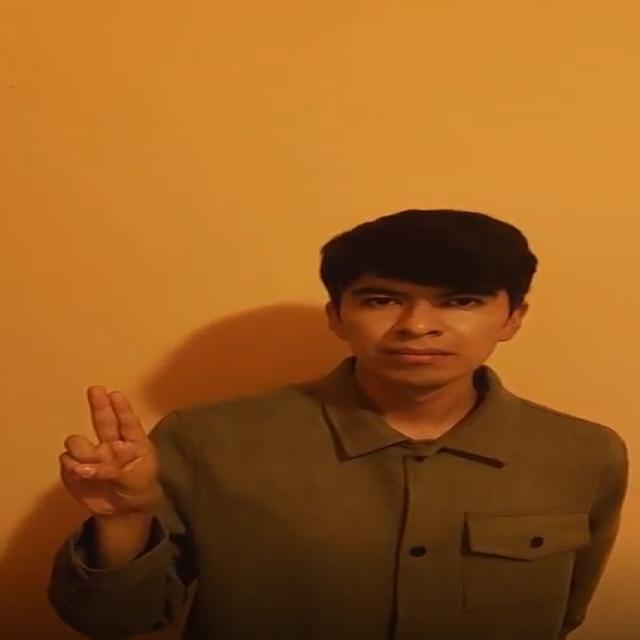U: (39, 376, 176, 528)
